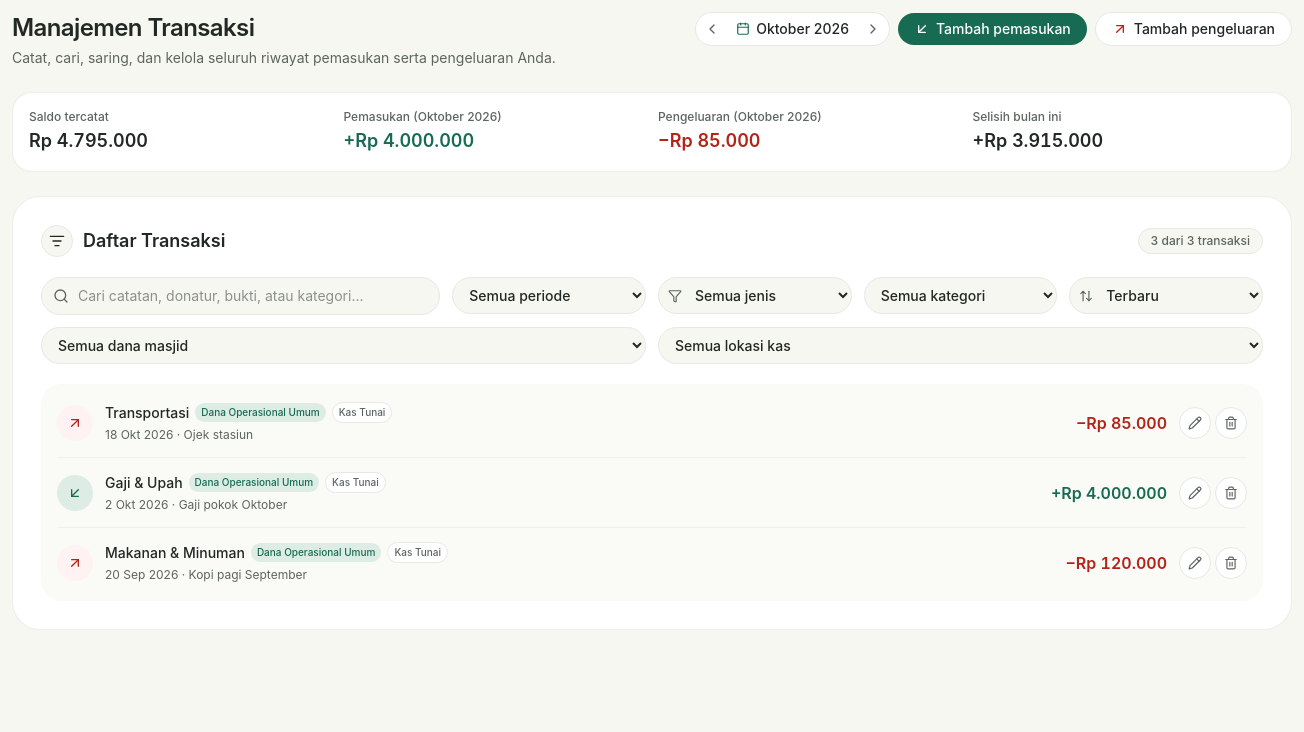
Test: Nota Milestone 4 — Transaction Management (CRUD, Validation, Search, Filter, Sort) › supports keyword search, period/type/category filters, and newest/oldest sorting
expect the text with test id "filtered-transaction-count" reads "3 dari 3 transaksi": met, box left=1138, top=228, right=1263, bottom=254
expect the list item that starts with "Transportasi" shows "Ojek stasiun": met, box left=184, top=427, right=253, bottom=442
Switch sort order to oldest first ('oldest')
Select "Terlama" in the dropdown named "Urutan transaksi". click: (1166, 296)
box: left=1069, top=277, right=1263, bottom=314
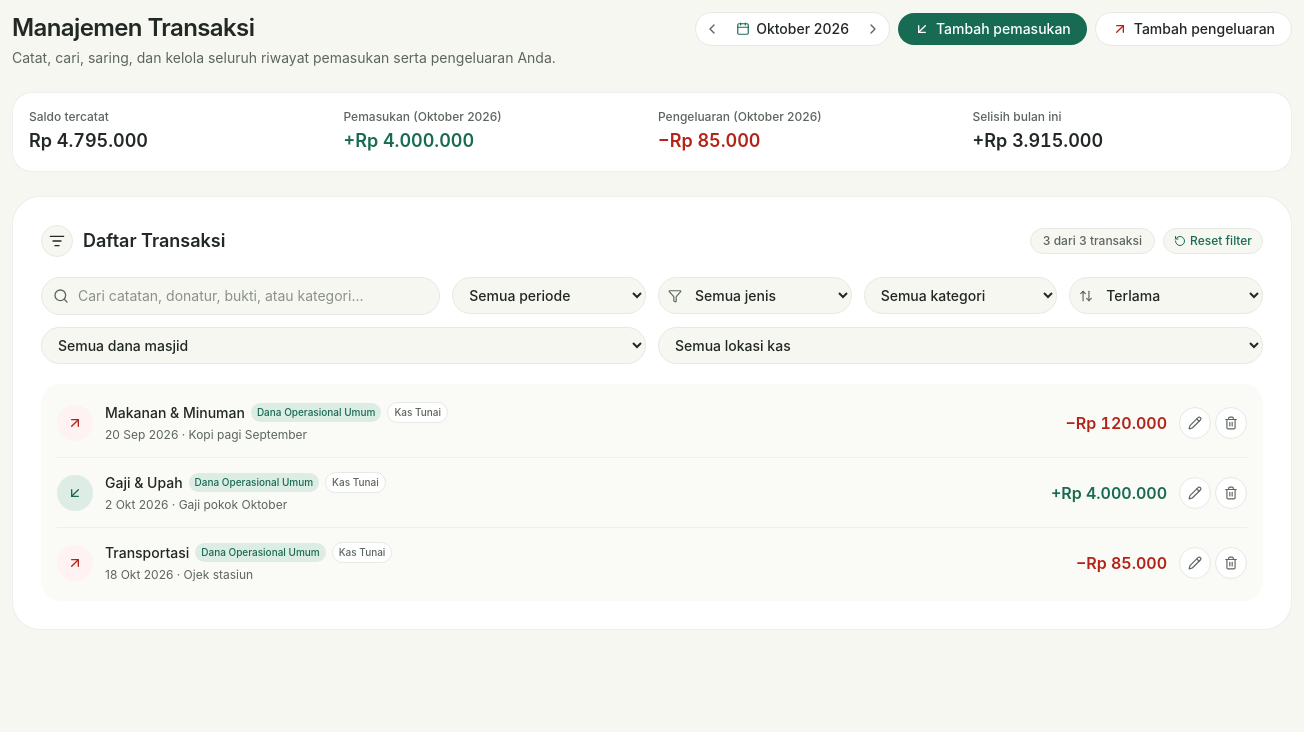
expect the list item that starts with "Makanan & Minuman" shows "Kopi pagi September": met, box left=189, top=427, right=307, bottom=442
expect the list item that starts with "Transportasi" shows "Ojek stasiun": met, box left=184, top=567, right=253, bottom=582
Select "Bulan terpilih (Oktober 2026)" in the dropdown named "Filter periode". click: (549, 296)
box: left=452, top=277, right=646, bottom=314
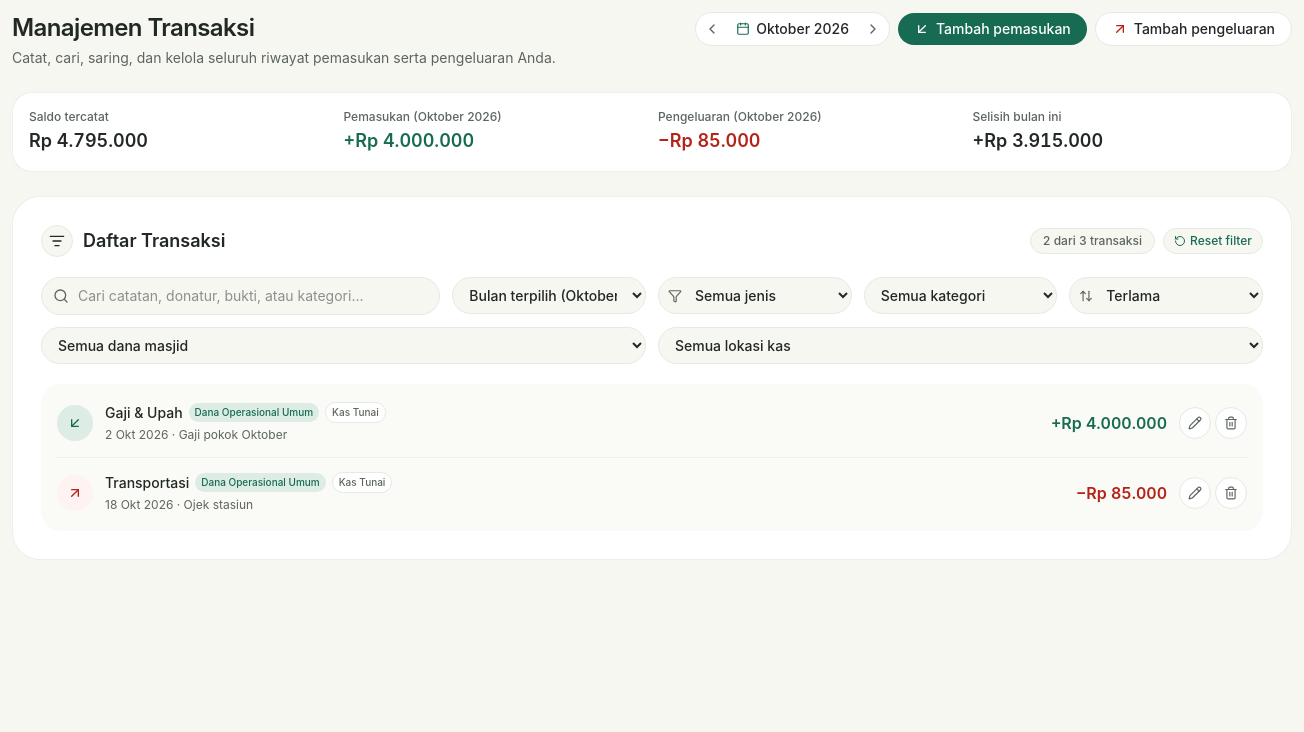
expect the text with test id "filtered-transaction-count" reads "2 dari 3 transaksi": met, box left=1030, top=228, right=1155, bottom=254
Select "Pengeluaran" in the dropdown named "Filter jenis transaksi". click: (755, 296)
box: left=658, top=277, right=852, bottom=314
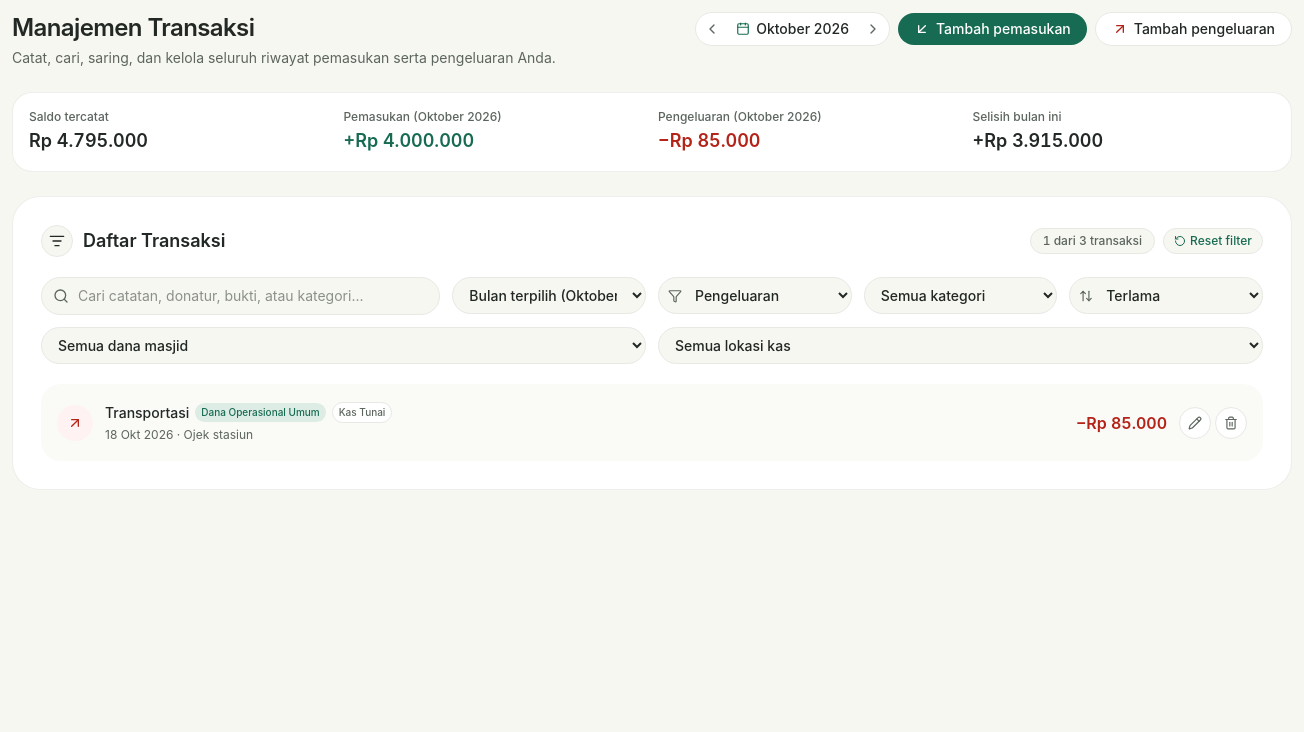
expect the text "· Ojek stasiun" is shown: met, box left=173, top=427, right=253, bottom=442
expect the text with test id "filtered-transaction-count" reads "1 dari 3 transaksi": met, box left=1030, top=228, right=1155, bottom=254
Reset all filters
Click the button "Reset filter". click: (1213, 241)
box: left=1163, top=228, right=1263, bottom=254
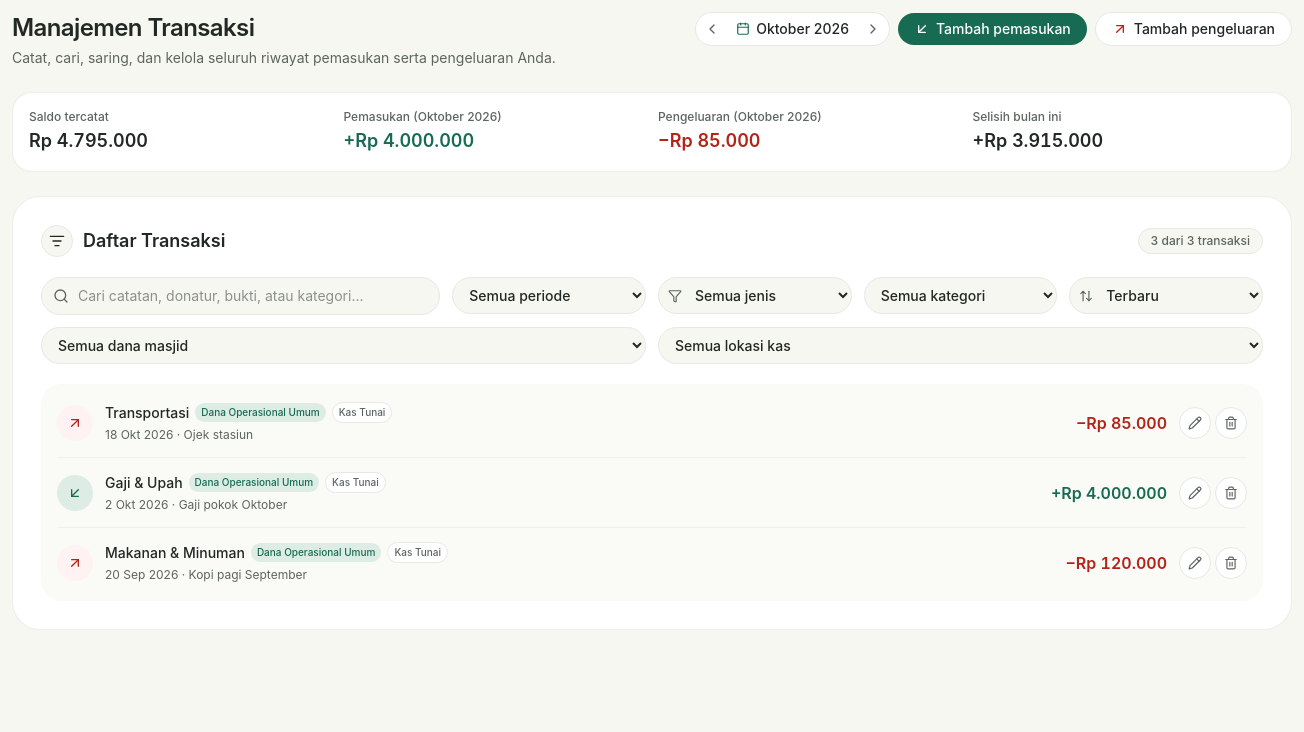
expect the text with test id "filtered-transaction-count" reads "3 dari 3 transaksi": met, box left=1138, top=228, right=1263, bottom=254
Keyword search matching note or category name
Type "kopi" into the search field named "Cari transaksi". click: (241, 296)
box: left=41, top=277, right=440, bottom=315
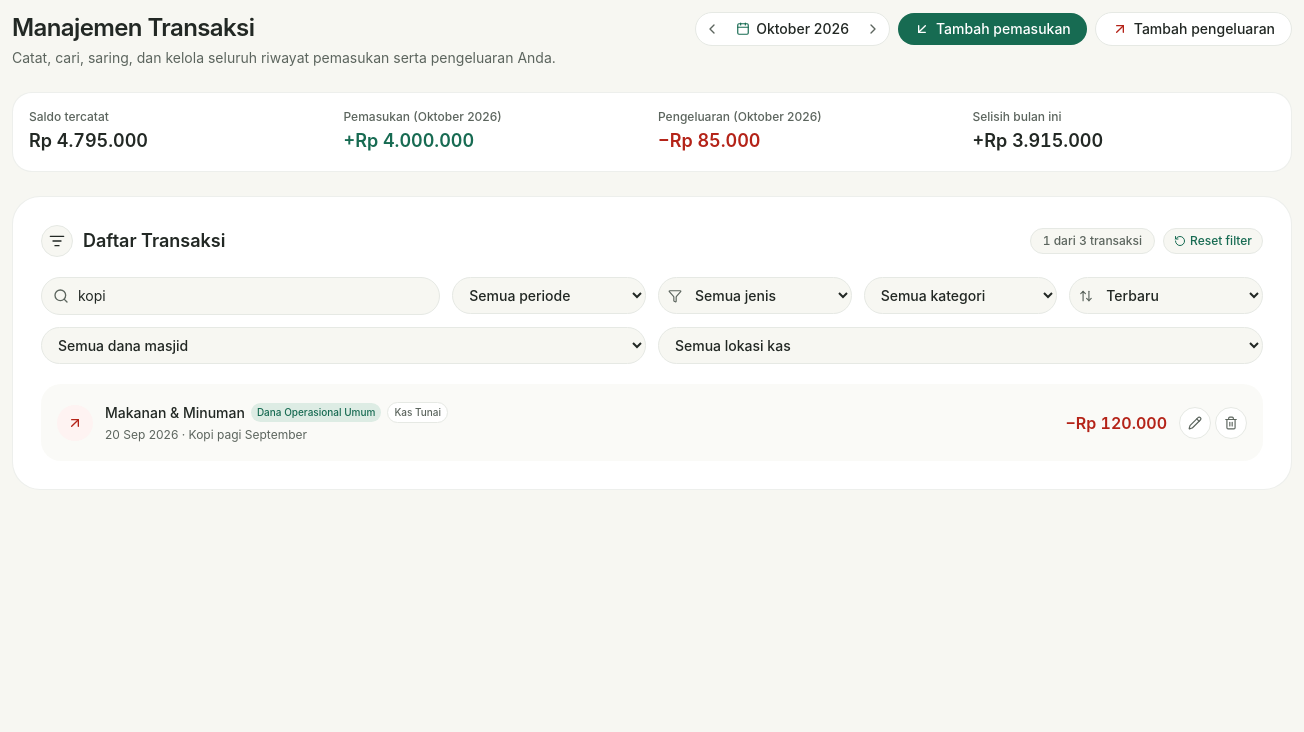
expect the text "· Kopi pagi September" is shown: met, box left=178, top=427, right=307, bottom=442
expect the text with test id "filtered-transaction-count" reads "1 dari 3 transaksi": met, box left=1030, top=228, right=1155, bottom=254
Non-matching search shows empty-filter state with reset button
Replace the text in the search field named "Cari transaksi" with "kata-kunci-tidak-ada". click: (241, 296)
box: left=41, top=277, right=440, bottom=315
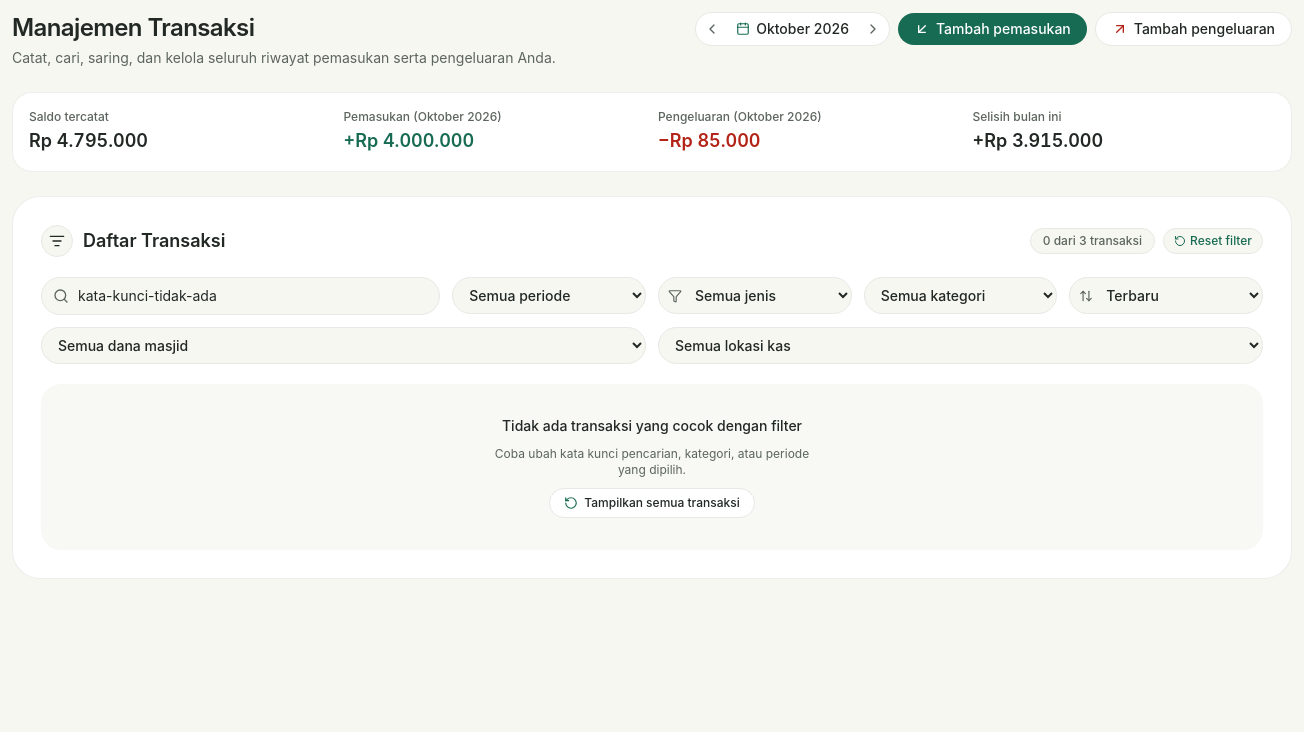
expect the text "Tidak ada transaksi yang cocok dengan filter" is shown: met, box left=502, top=417, right=802, bottom=434
